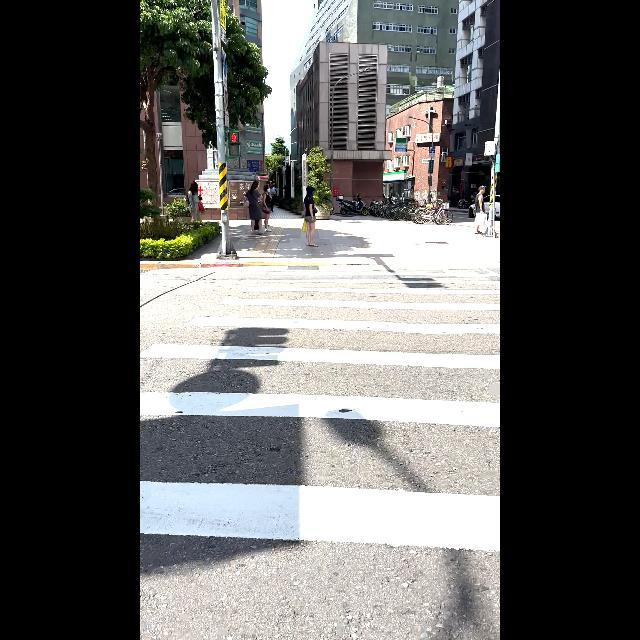sidewalk: (140, 263, 500, 638)
